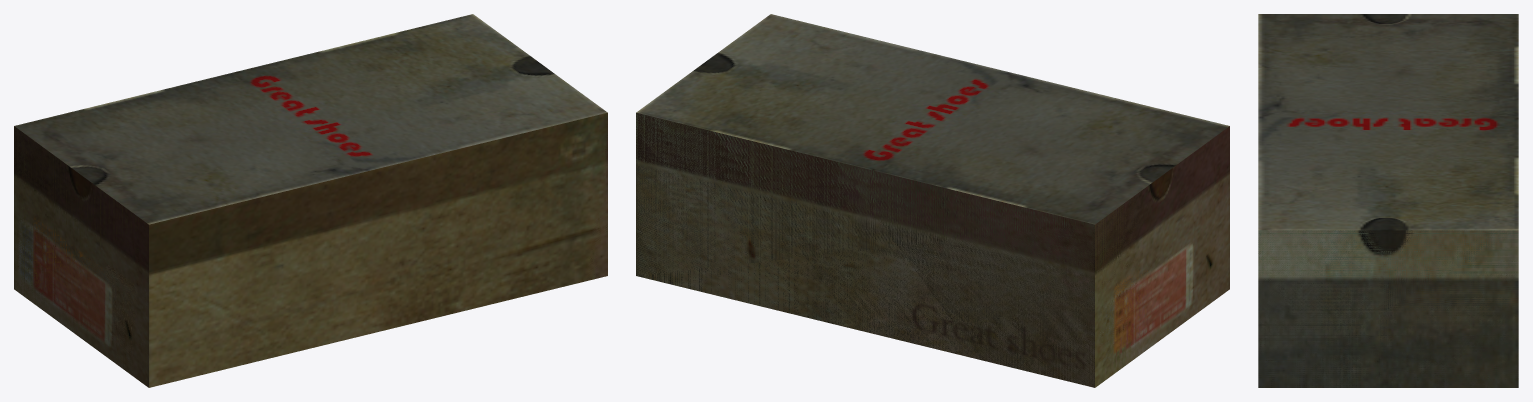
File: shoes_box.FBX
The picture shows the model from 3 angles, left to right: view 1: azimuth 30°, elevation 25°; view 2: azimuth 150°, elevation 25°; view 3: azimuth 270°, elevation 25°; orthographic projection. The views are drawn at different scales.
Visible parts, largest first — view 1: shoes_box_04, shoes_box_01, shoes_box_03; view 2: shoes_box_03, shoes_box_01, shoes_box_02, shoes_box_04; view 3: shoes_box_01, shoes_box_02.
Part boxes in pixels (left/top/right/bottom): shoes_box_04: left=14, top=113, right=607, bottom=387; shoes_box_01: left=14, top=14, right=607, bottom=224; shoes_box_03: left=14, top=113, right=607, bottom=387; shoes_box_03: left=636, top=113, right=1229, bottom=387; shoes_box_01: left=636, top=14, right=1229, bottom=224; shoes_box_02: left=636, top=113, right=1094, bottom=387; shoes_box_04: left=1095, top=197, right=1147, bottom=387; shoes_box_01: left=1258, top=14, right=1518, bottom=387; shoes_box_02: left=1258, top=230, right=1518, bottom=387.
Bounding box in the file's own units: 0.3026 × 0.1029 × 0.1539.
